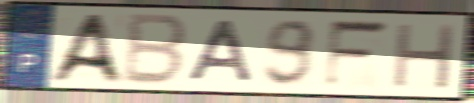9: (261, 18, 319, 89)
A: (43, 12, 127, 85), (184, 18, 256, 84)
B: (119, 11, 191, 88)
F: (321, 18, 393, 91)
H: (389, 21, 459, 91)
